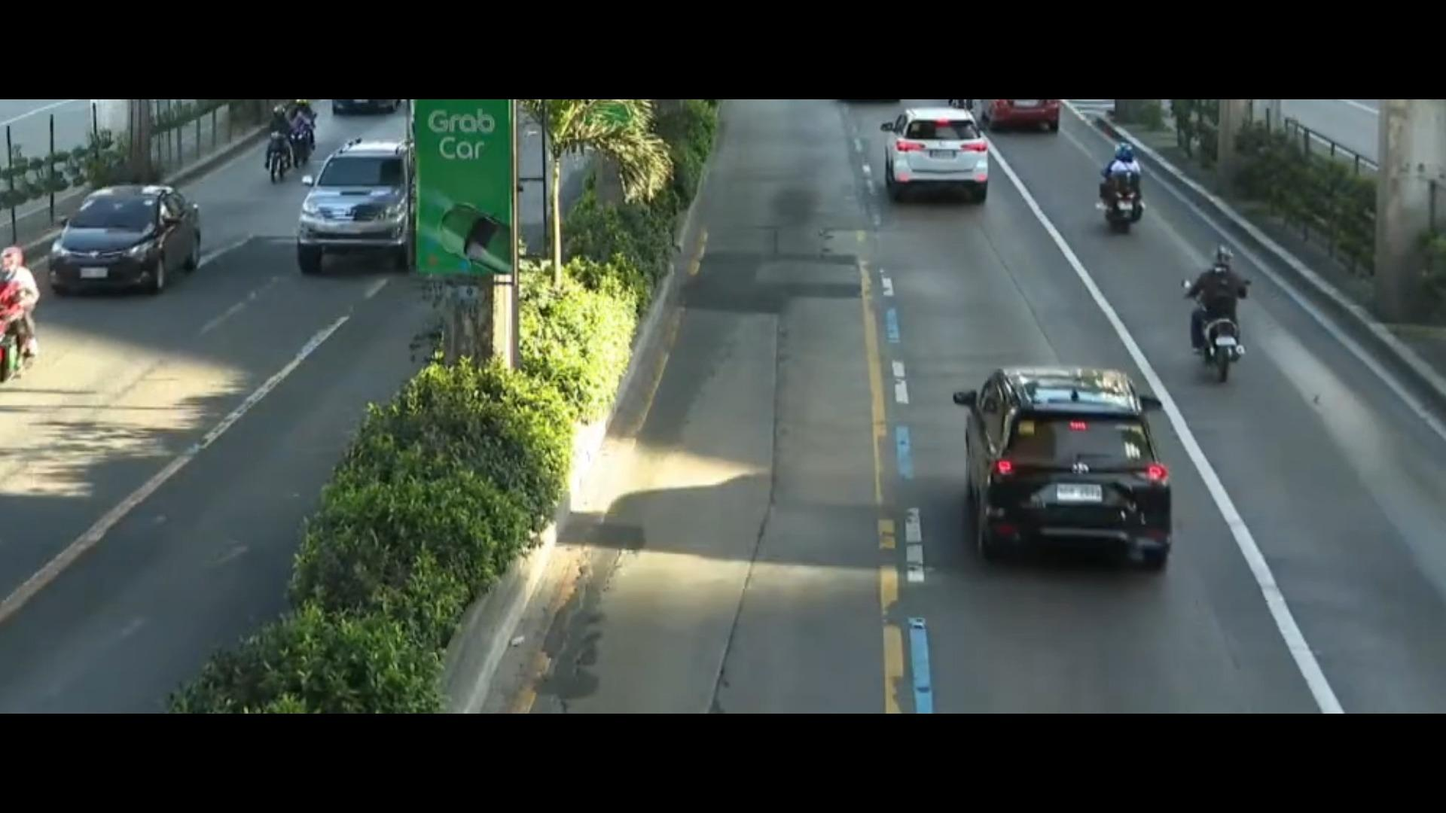Motorcycle: (1177, 232, 1285, 393), (1094, 126, 1148, 238), (0, 243, 34, 388), (254, 98, 300, 189), (289, 96, 330, 162)
SUV: (925, 324, 1188, 581), (294, 126, 426, 275), (861, 110, 1013, 200)
Sedan: (39, 177, 209, 316)
